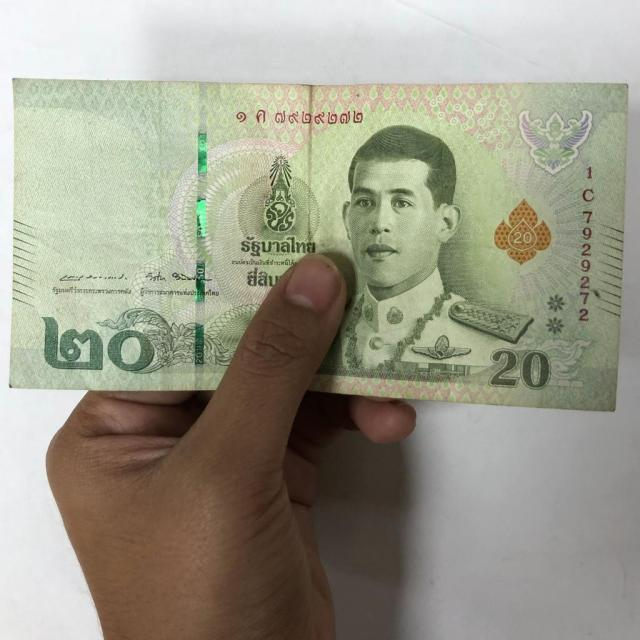THAI20: (8, 78, 630, 414)
